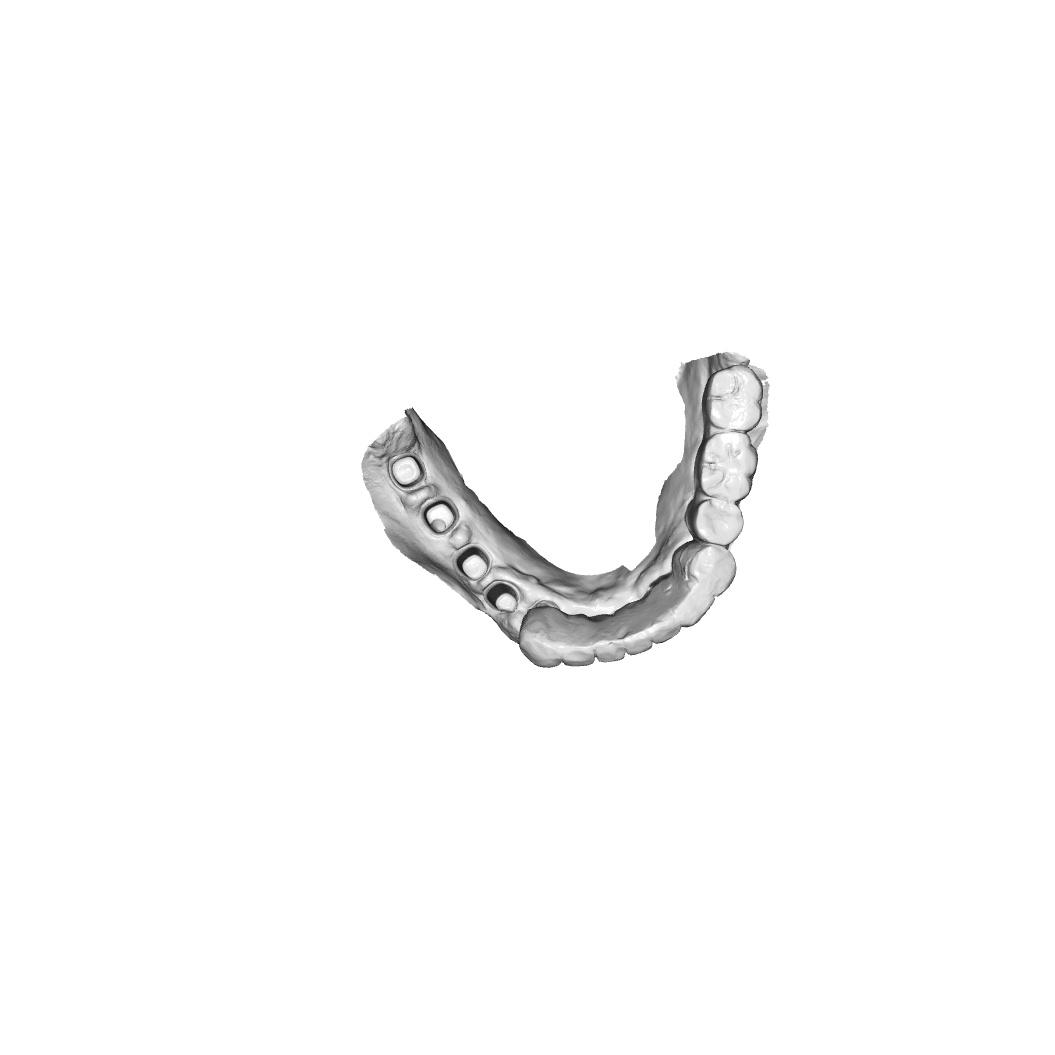abutment: (452, 542, 494, 586), (387, 450, 428, 493), (419, 495, 460, 536), (481, 579, 520, 614)
canine: (517, 604, 563, 669), (660, 578, 717, 630)
incisor: (616, 604, 653, 657), (562, 613, 597, 667), (596, 613, 627, 667), (645, 604, 684, 645)
molar: (695, 431, 759, 502), (700, 364, 764, 433)
premolar: (670, 538, 739, 597), (683, 496, 747, 548)
